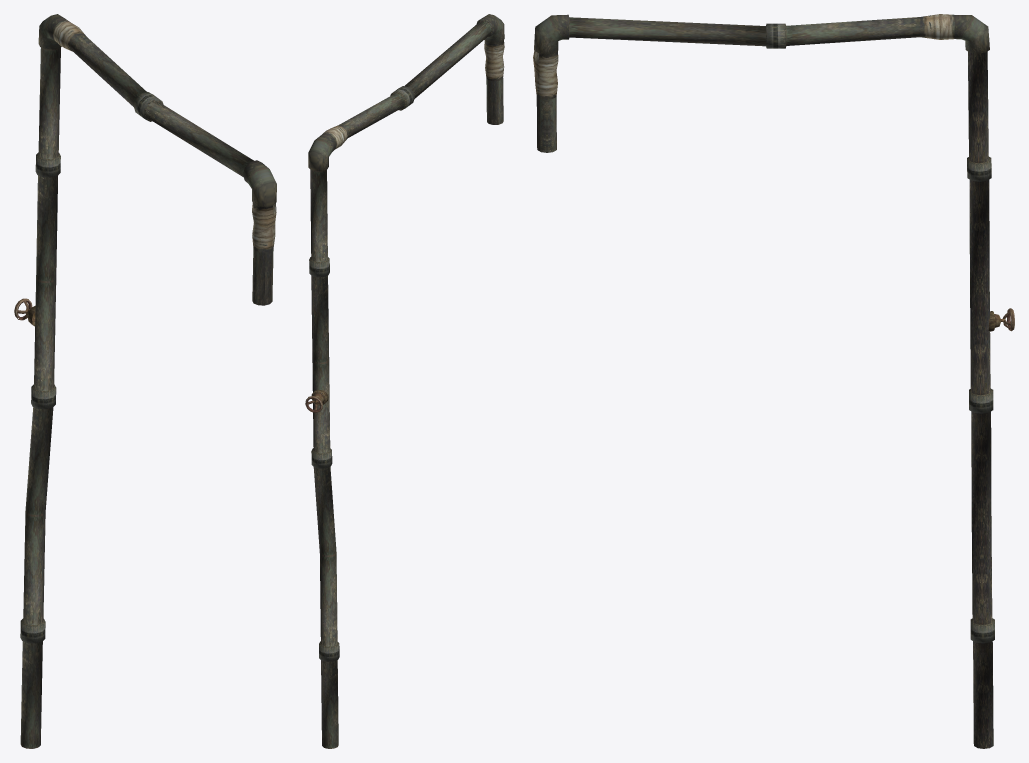
The model's file is S_Build_West034.FBX.
The picture shows the model from 3 angles, left to right: view 1: azimuth 30°, elevation 25°; view 2: azimuth 150°, elevation 25°; view 3: azimuth 270°, elevation 25°; orthographic projection. The views are drawn at different scales.
Visible parts, largest first — view 1: S_Build_West034; view 2: S_Build_West034; view 3: S_Build_West034.
Part boxes in pixels (x1=…): S_Build_West034: x1=14, y1=14, x2=276, y2=748; S_Build_West034: x1=305, y1=14, x2=504, y2=748; S_Build_West034: x1=533, y1=14, x2=1014, y2=748.
Size of the model in its own units: 45.01 by 489 by 825.
